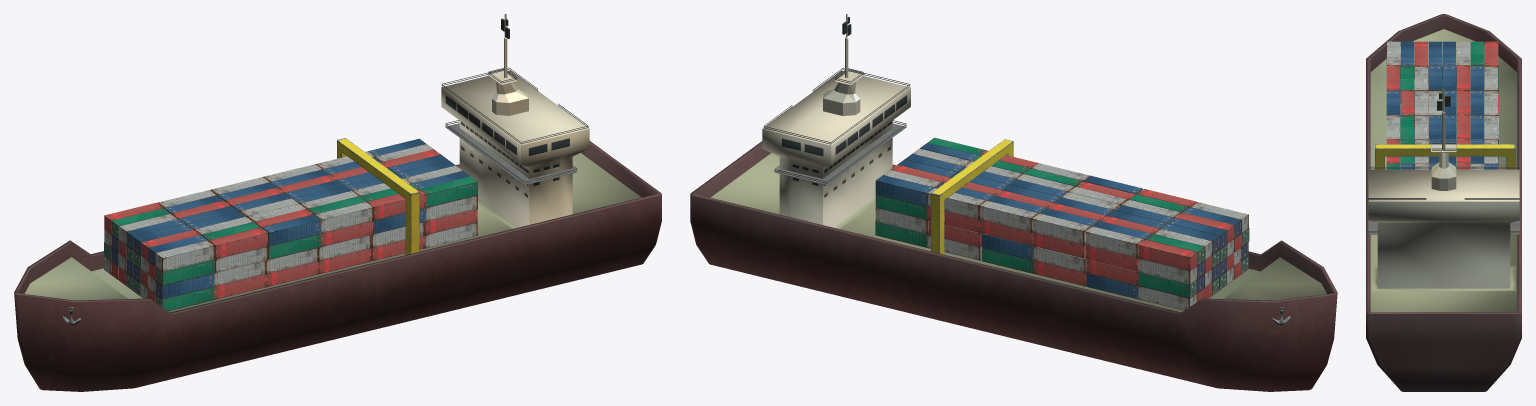
Rendered from CargoShip.fbx.
The picture shows the model from 3 angles, left to right: view 1: azimuth 30°, elevation 25°; view 2: azimuth 150°, elevation 25°; view 3: azimuth 270°, elevation 25°; orthographic projection. The views are drawn at different scales.
Parts seen in each view (by area): view 1: ShippingContainerGreen.007; view 2: ShippingContainerGreen.007; view 3: ShippingContainerGreen.007.
Part boxes in pixels (left/top/right/bottom): ShippingContainerGreen.007: left=14, top=14, right=661, bottom=391; ShippingContainerGreen.007: left=690, top=14, right=1337, bottom=391; ShippingContainerGreen.007: left=1366, top=14, right=1521, bottom=391.
Bounding box in the file's own units: 13999 × 5749 × 3274.
